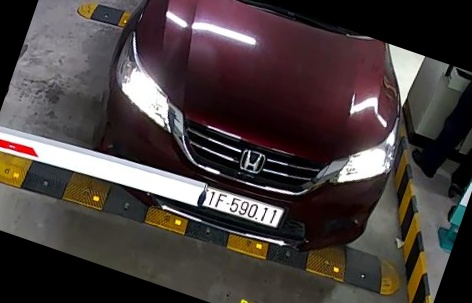plate: (192, 174, 288, 231)
